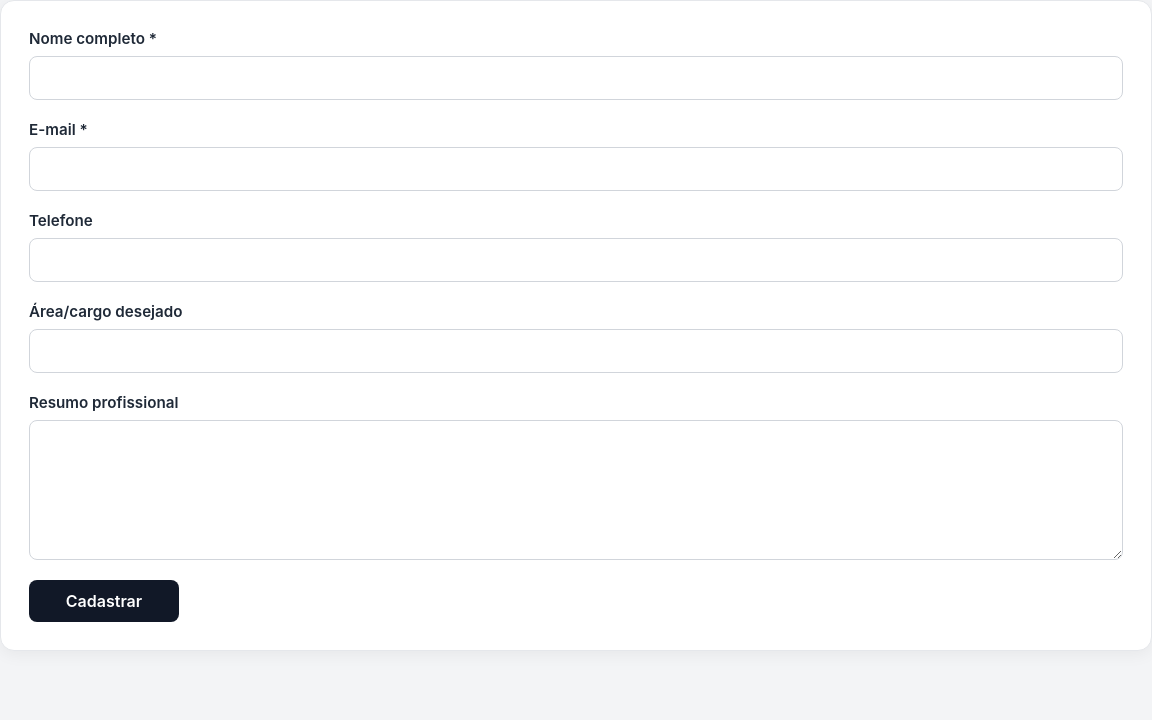
CandidateForm › deve mostrar erro quando o e-mail não for informado
The width and height of the screenshot is (1152, 720).
In the field labelled "Nome completo *": (576, 78) [29,56,1123,100], type "Pedro Loureiro"
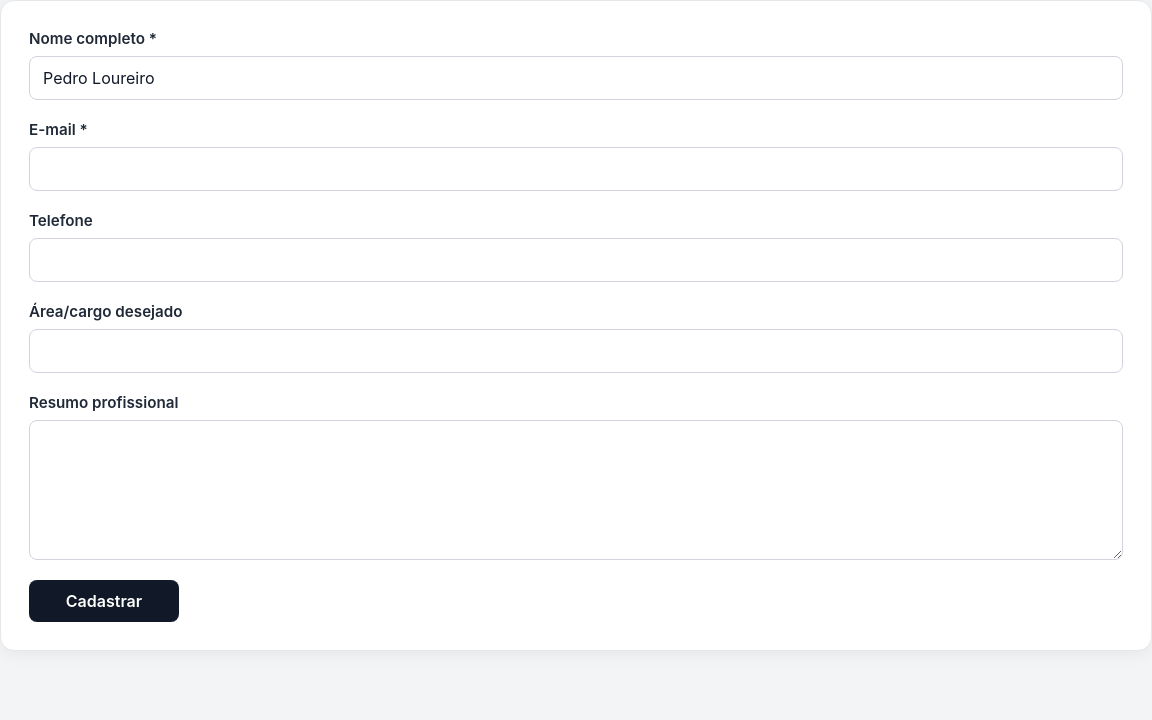
Click the button "Cadastrar": (104, 601) [29,580,179,622]
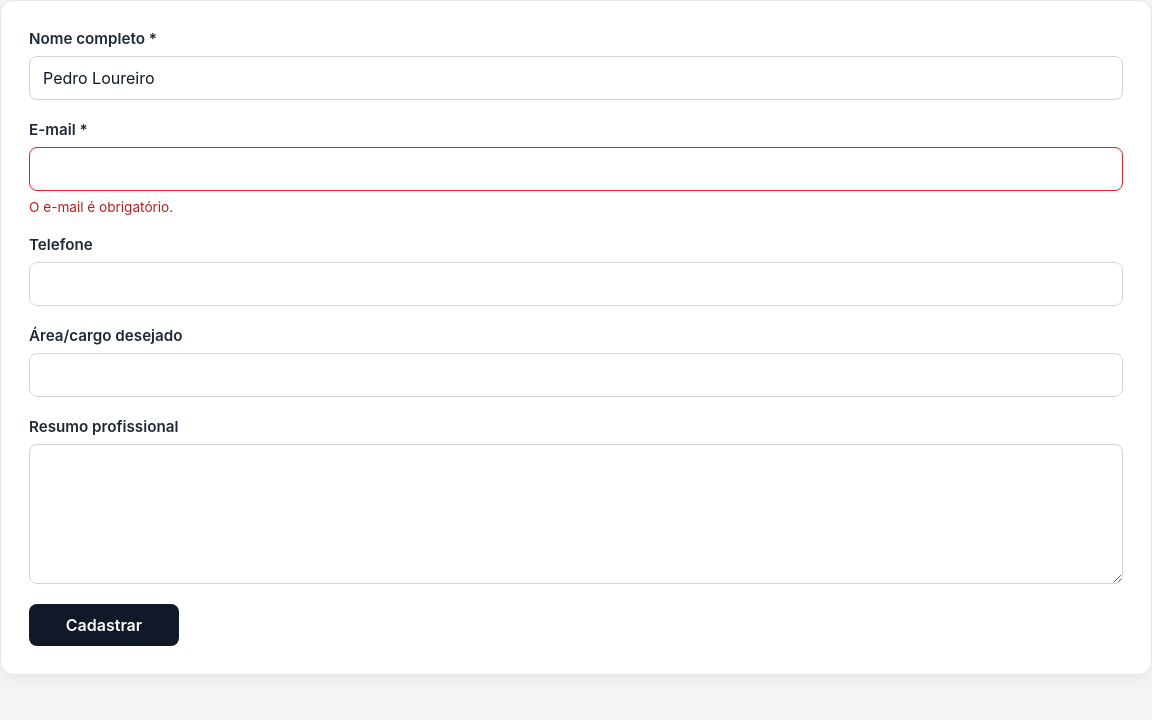
Result: the text "O e-mail é obrigatório." is shown at [29,199,173,215]
